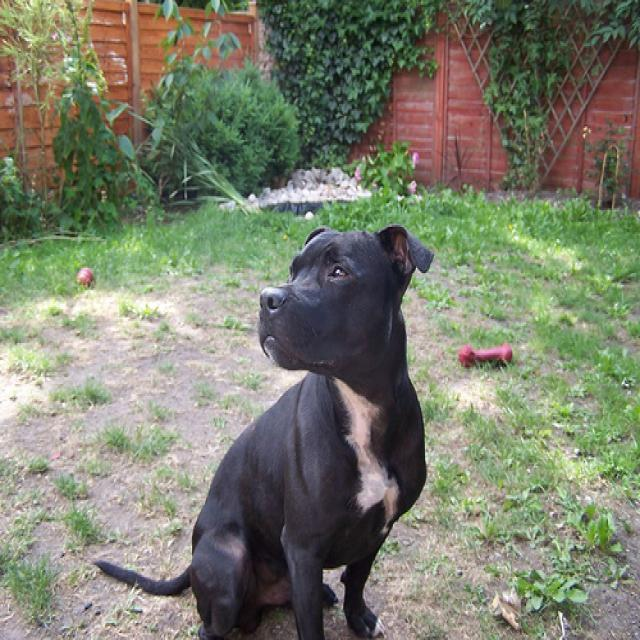dog-staffordshire_bull_terrier: (90, 207, 443, 637)
